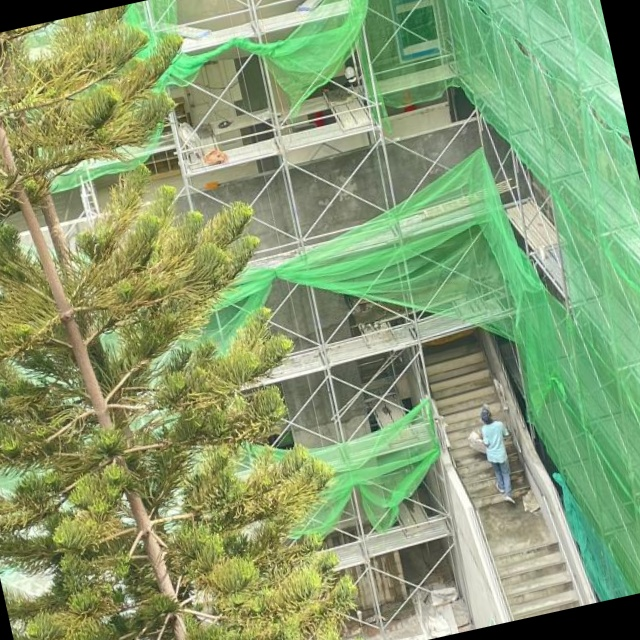Sin_Chaleco: (480, 422, 508, 464)
